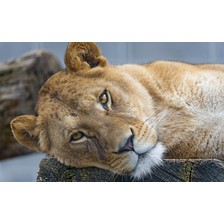lion: (9, 41, 224, 181)
